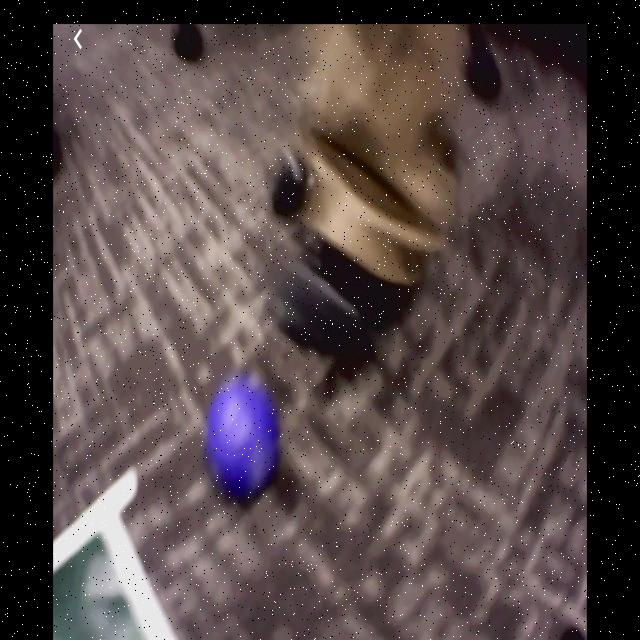ball: (211, 381, 278, 494)
